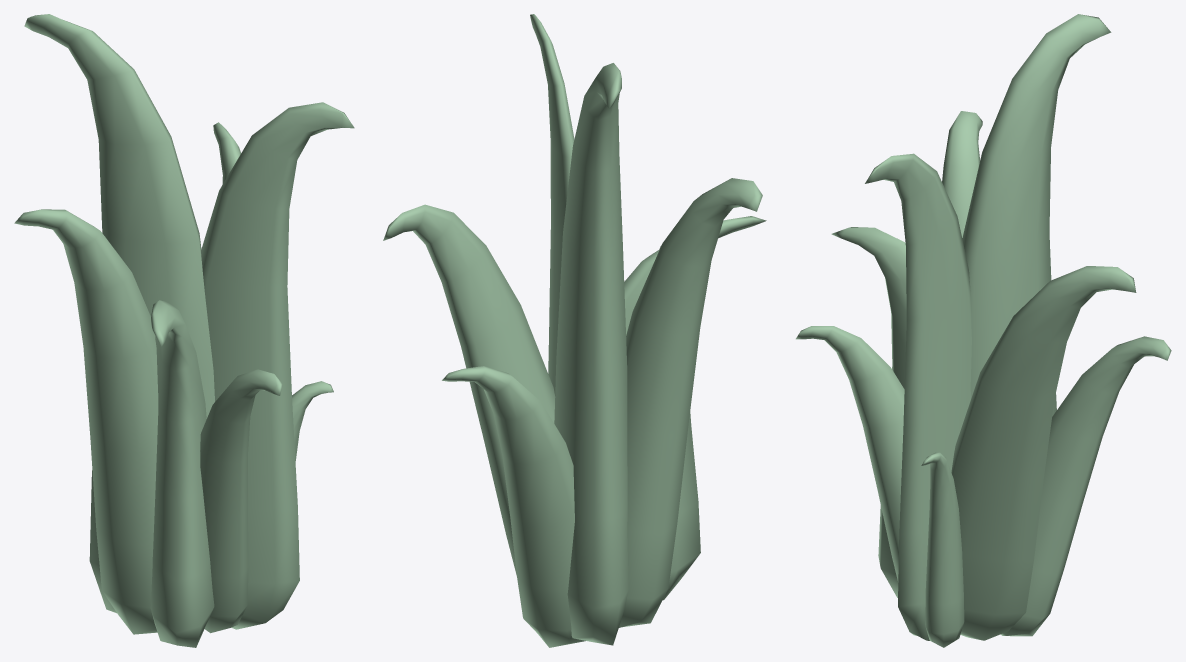
File: Grass3.fbx
The picture shows the model from 3 angles, left to right: view 1: azimuth 30°, elevation 25°; view 2: azimuth 150°, elevation 25°; view 3: azimuth 270°, elevation 25°; orthographic projection. The views are drawn at different scales.
Parts seen in each view (by area): view 1: pCube4, pCube9, pCube6, pCube5, pCube8, pCube10, pCube7; view 2: pCube6, pCube9, pCube11, pCube7, pCube4, pCube5; view 3: pCube7, pCube4, pCube6, pCube11, pCube8, pCube10, pCube5, pCube9.
Part boxes in pixels (x1,y1,x2,y2): pCube4: (201, 102, 354, 629); pCube9: (14, 209, 158, 634); pCube6: (24, 14, 214, 613); pCube5: (150, 300, 214, 647); pCube8: (200, 369, 282, 633); pCube10: (292, 381, 333, 460); pCube7: (213, 122, 240, 184); pCube6: (554, 63, 628, 645); pCube9: (619, 178, 762, 627); pCube11: (442, 366, 585, 647); pCube7: (383, 204, 555, 575); pCube4: (530, 14, 574, 395); pCube5: (624, 216, 766, 600); pCube7: (951, 266, 1136, 640); pCube4: (865, 153, 971, 640); pCube6: (962, 14, 1111, 416); pCube11: (1001, 336, 1171, 636); pCube8: (796, 326, 904, 582); pCube10: (921, 452, 964, 647); pCube5: (831, 227, 906, 597); pCube9: (942, 111, 982, 237).
Bounding box in the file's own units: 2.68 × 5.36 × 3.14.
